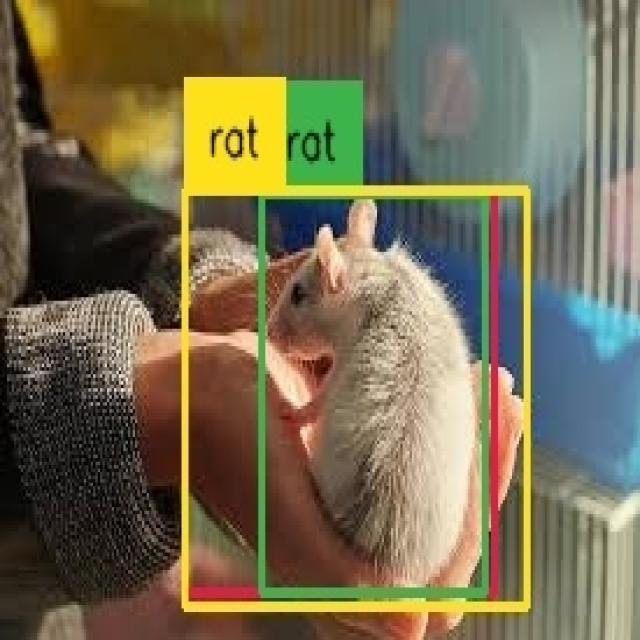rat: (185, 190, 527, 606), (186, 192, 494, 594), (262, 192, 485, 591)
